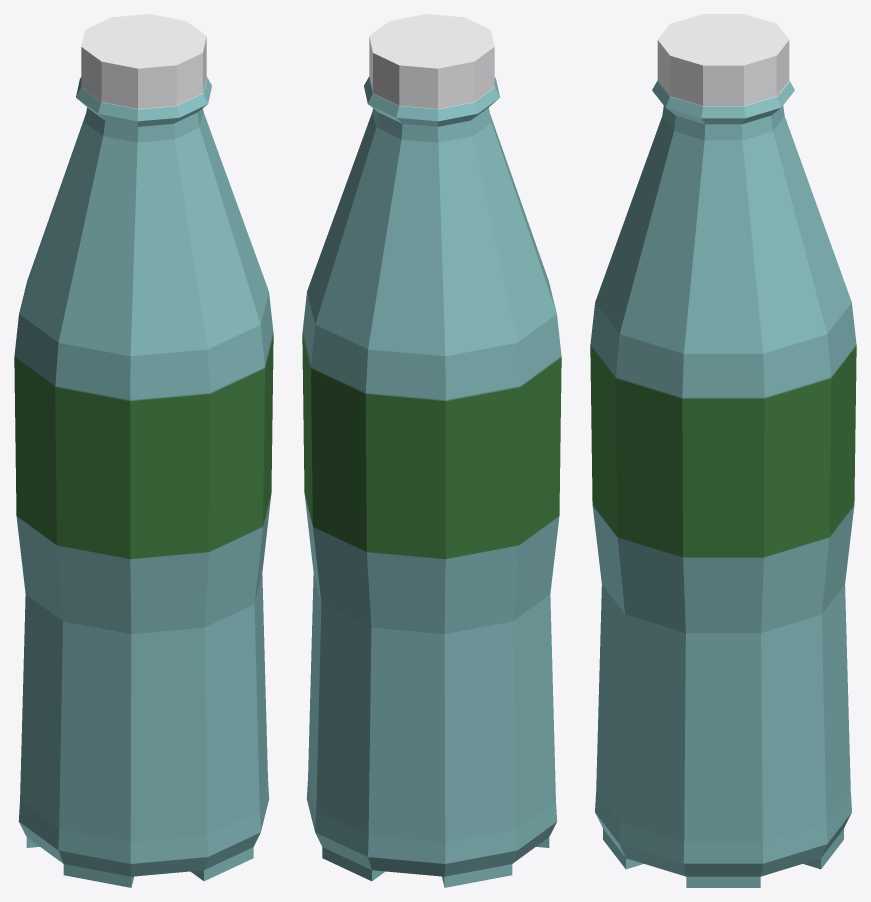
File: PlasticBottle.fbx
3 views of the same model, side by side, from view 1: azimuth 30°, elevation 25°; view 2: azimuth 150°, elevation 25°; view 3: azimuth 270°, elevation 25° (orthographic).
Visible parts, largest first — view 1: Cylinder; view 2: Cylinder; view 3: Cylinder.
Part boxes in pixels (x1=…): Cylinder: x1=14, y1=14, x2=273, y2=887; Cylinder: x1=302, y1=14, x2=561, y2=887; Cylinder: x1=590, y1=14, x2=856, y2=887.
Size of the model in its own units: 7.33 by 25.56 by 7.71.
Materials: 1 (1 with a texture image).
